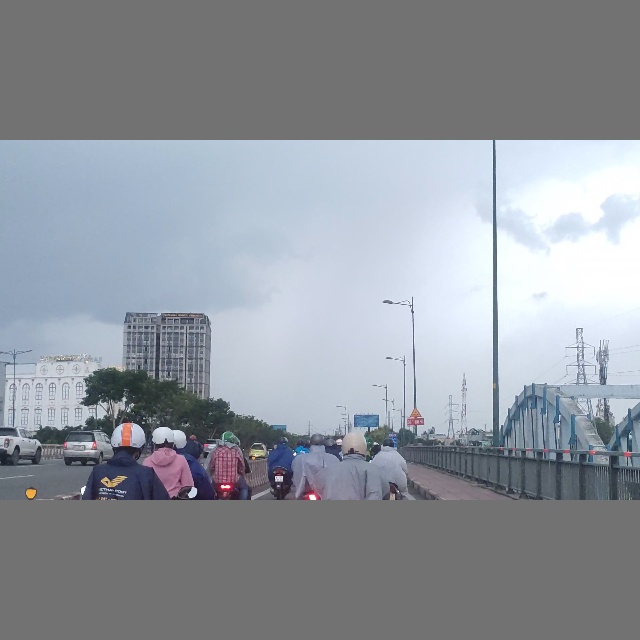W.245a: (409, 406, 423, 418)
